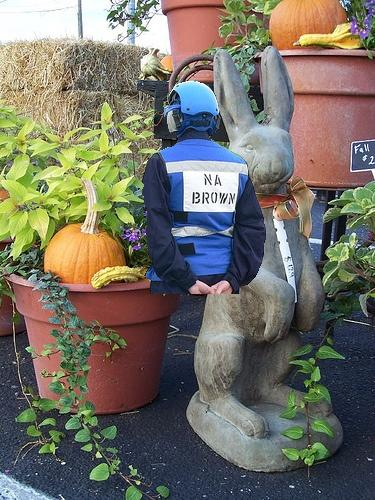tampered: (143, 81, 266, 294)
